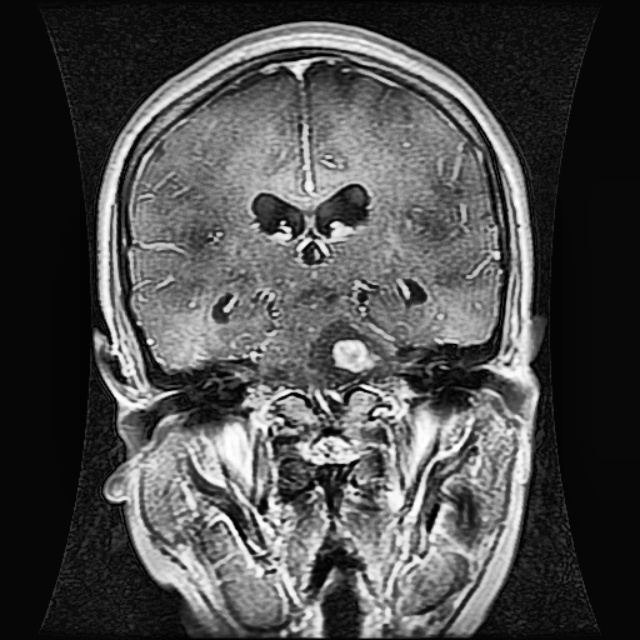Meningioma: (307, 317, 397, 388)
